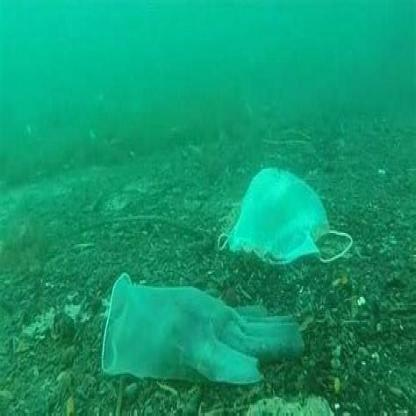Mask: (215, 162, 353, 264)
glove: (101, 269, 307, 385)
